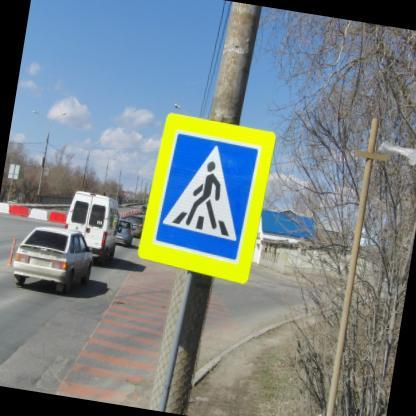road_sign: (139, 114, 275, 283)
